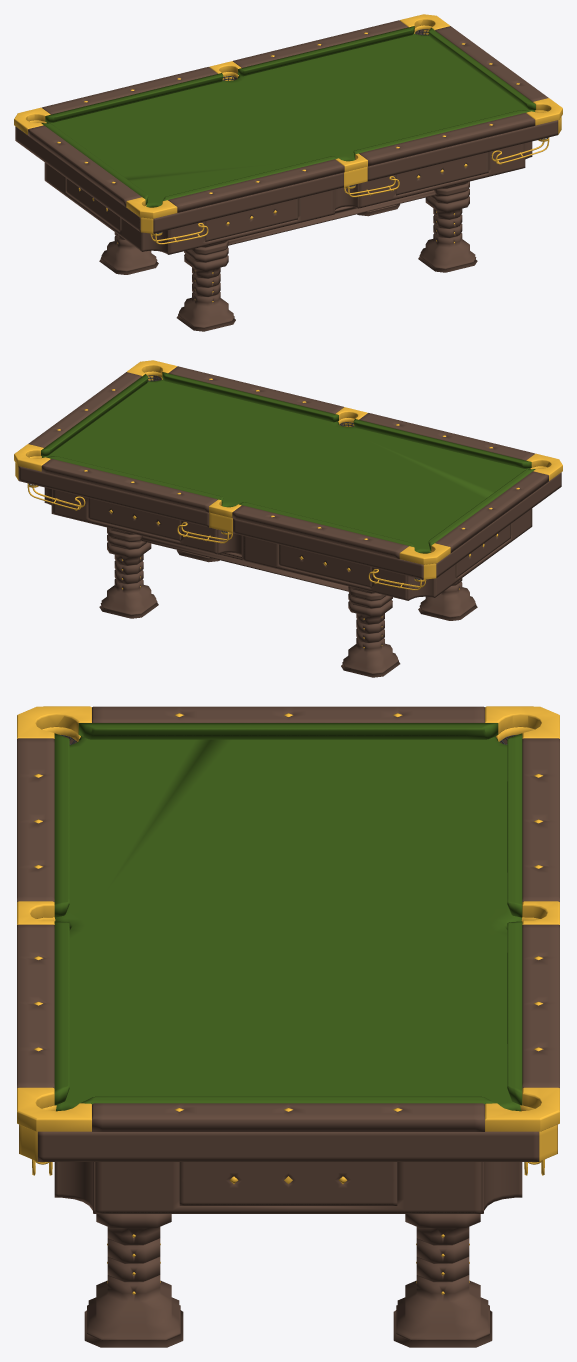
The model's file is BilliardTable.glb.
The picture shows the model from 3 angles, top to bottom: view 1: azimuth 30°, elevation 25°; view 2: azimuth 150°, elevation 25°; view 3: azimuth 270°, elevation 25°; orthographic projection. The views are drawn at different scales.
Parts seen in each view (by area): view 1: Billiard Table_Fabric, Billiard Table_Wood, Billiard Table_Legs, Billiard Table_Walls, Billiard Table_Pocket Gold; view 2: Billiard Table_Fabric, Billiard Table_Wood, Billiard Table_Legs, Billiard Table_Walls, Billiard Table_Pocket Gold; view 3: Billiard Table_Fabric, Billiard Table_Wood, Billiard Table_Walls, Billiard Table_Legs, Billiard Table_Pocket Gold.
Boxes of the visible parts, bbox=[...] form: Billiard Table_Fabric: bbox=[46, 33, 534, 207]; Billiard Table_Wood: bbox=[15, 20, 558, 254]; Billiard Table_Legs: bbox=[99, 181, 477, 331]; Billiard Table_Walls: bbox=[41, 26, 535, 205]; Billiard Table_Pocket Gold: bbox=[14, 14, 562, 244]; Billiard Table_Fabric: bbox=[42, 379, 530, 553]; Billiard Table_Wood: bbox=[18, 366, 561, 600]; Billiard Table_Legs: bbox=[99, 527, 477, 677]; Billiard Table_Walls: bbox=[41, 372, 535, 551]; Billiard Table_Pocket Gold: bbox=[14, 360, 562, 590]; Billiard Table_Fabric: bbox=[55, 736, 521, 1111]; Billiard Table_Wood: bbox=[17, 706, 559, 1213]; Billiard Table_Walls: bbox=[54, 723, 522, 1105]; Billiard Table_Legs: bbox=[84, 1214, 492, 1347]; Billiard Table_Pocket Gold: bbox=[17, 706, 559, 1175].
Size of the model in its own units: 2.43 by 0.8165 by 1.35.
